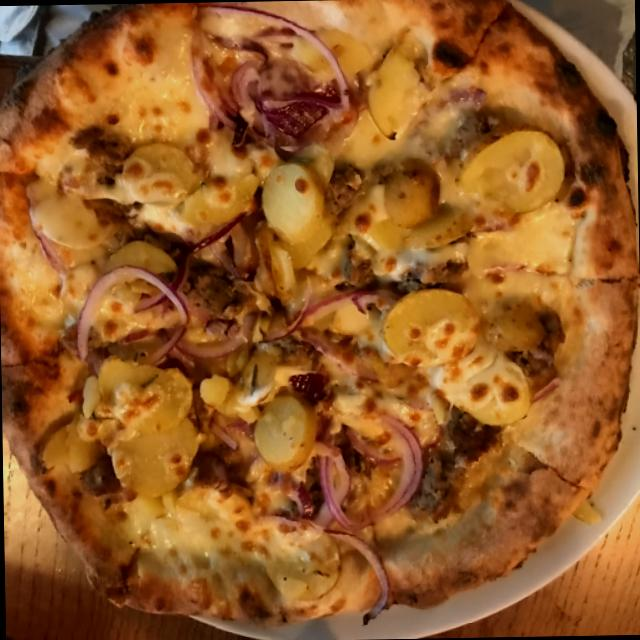pizza: (0, 0, 636, 626)
